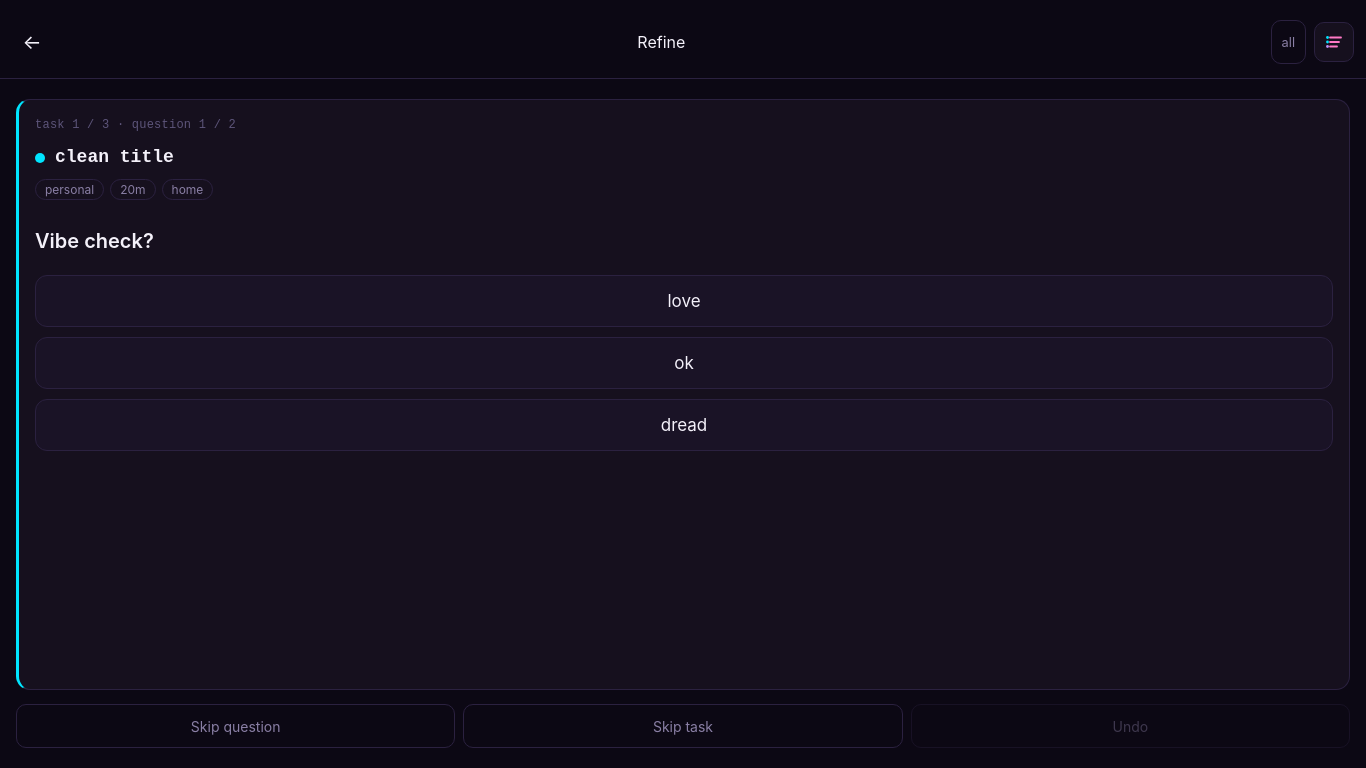
RefinePage › offers the focus card on the first two tasks but not the third (cap of 2)
Expected: the text "Vibe check?" is shown, [35, 229, 154, 253]
Step 1. Click the button "ok" → (684, 363), box [35, 337, 1333, 389]
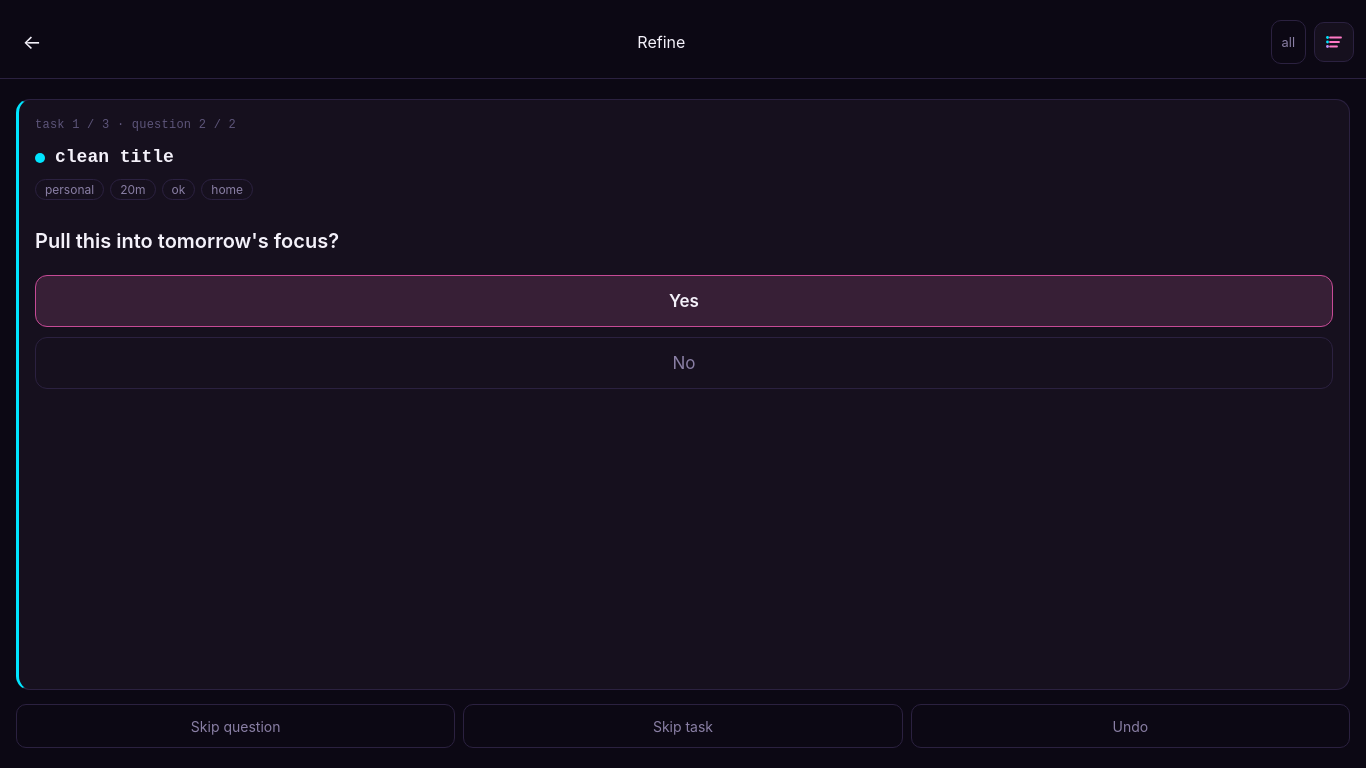
Now the text "Pull this into tomorrow's focus?" is shown, box [35, 229, 339, 253]
Step 2. Click the button "No" → (684, 363), box [35, 337, 1333, 389]
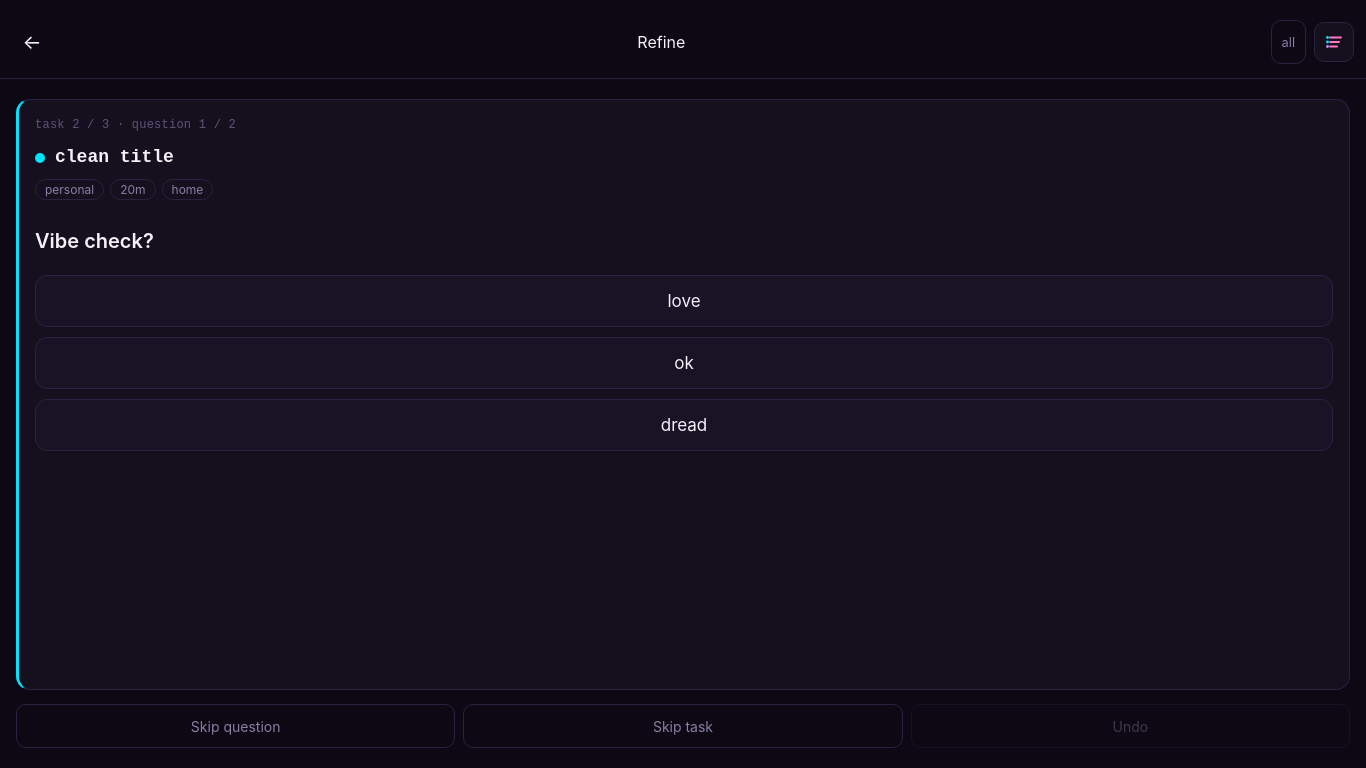
Now the text "Vibe check?" is shown, box [35, 229, 154, 253]
Step 3. Click the button "ok" → (684, 363), box [35, 337, 1333, 389]
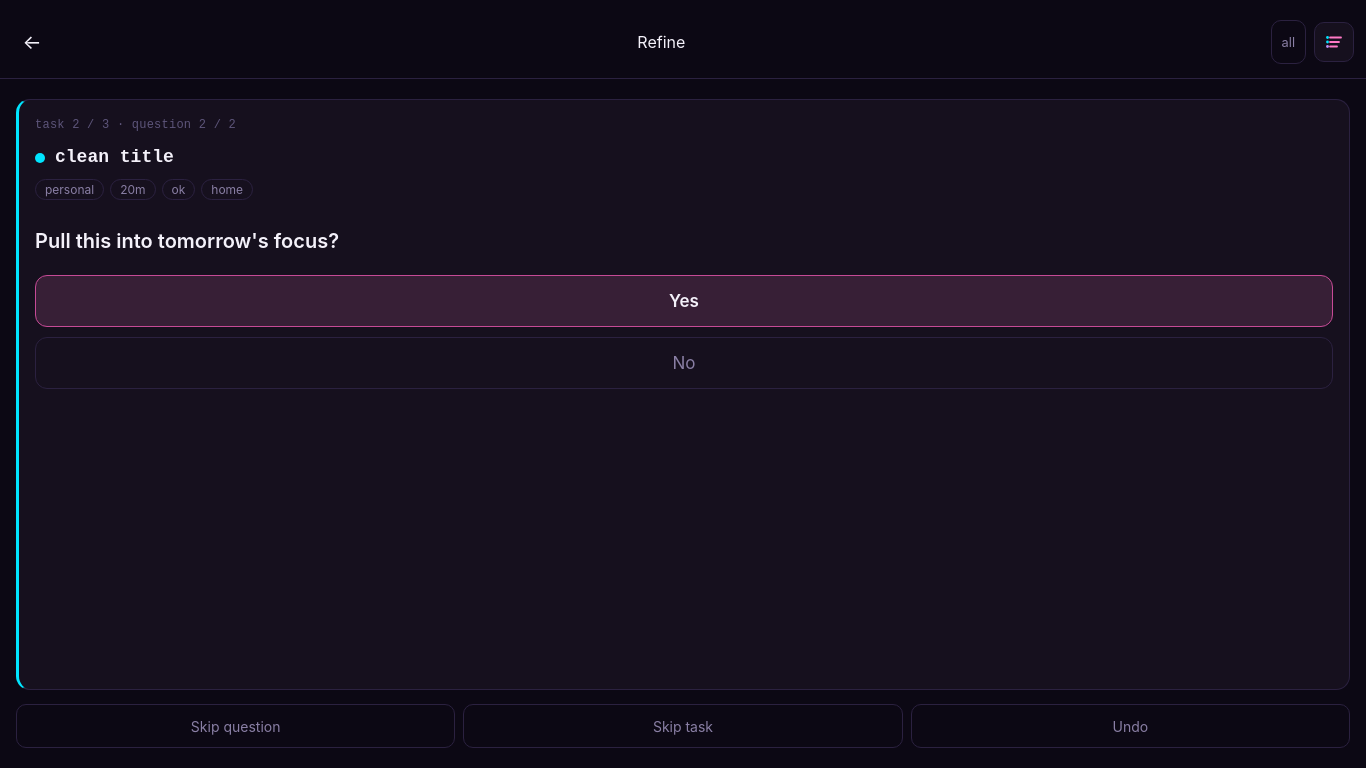
Now the text "Pull this into tomorrow's focus?" is shown, box [35, 229, 339, 253]
Step 4. Click the button "No" → (684, 363), box [35, 337, 1333, 389]
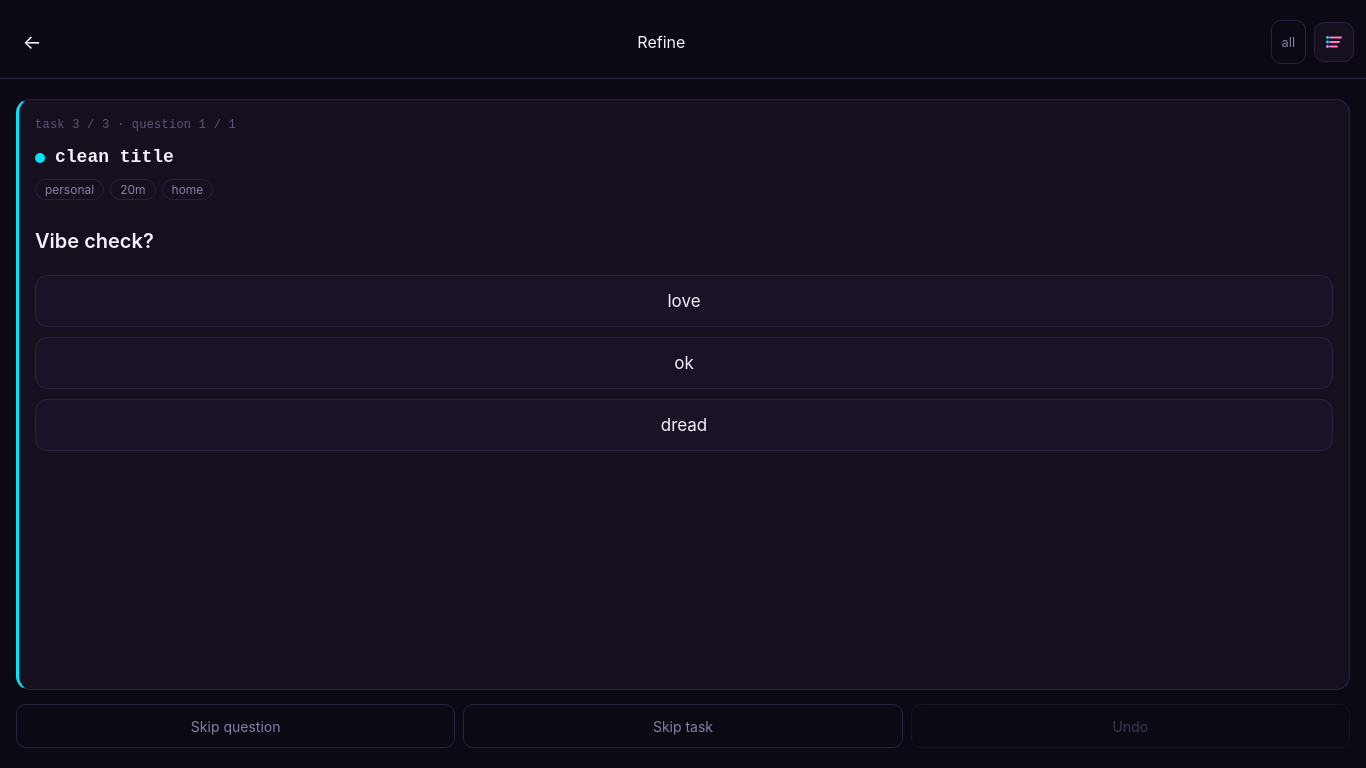
Now the text "Vibe check?" is shown, box [35, 229, 154, 253]
Step 5. Click the button "ok" → (684, 363), box [35, 337, 1333, 389]
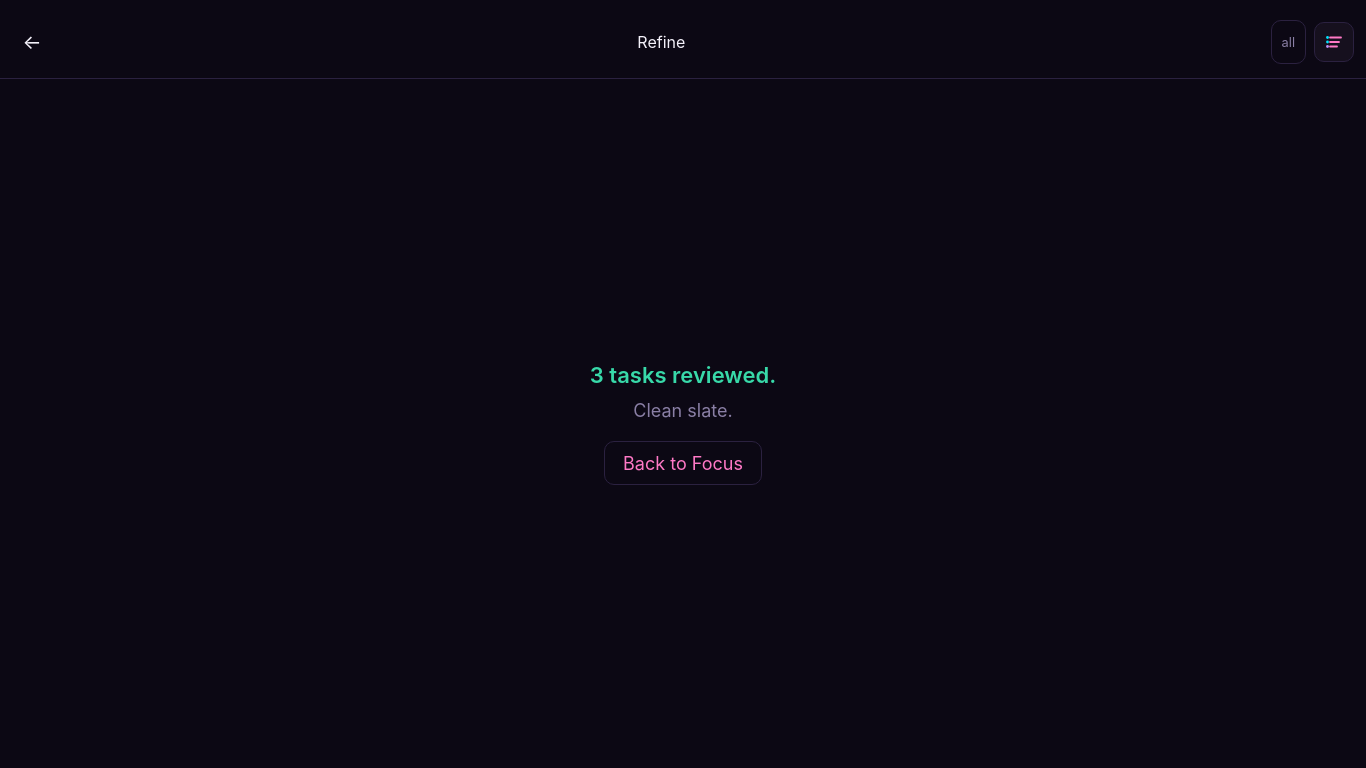
Expected: the text "Pull this into tomorrow's focus?" is not shown
Now the text "3 tasks reviewed." is shown, box [590, 362, 776, 388]
